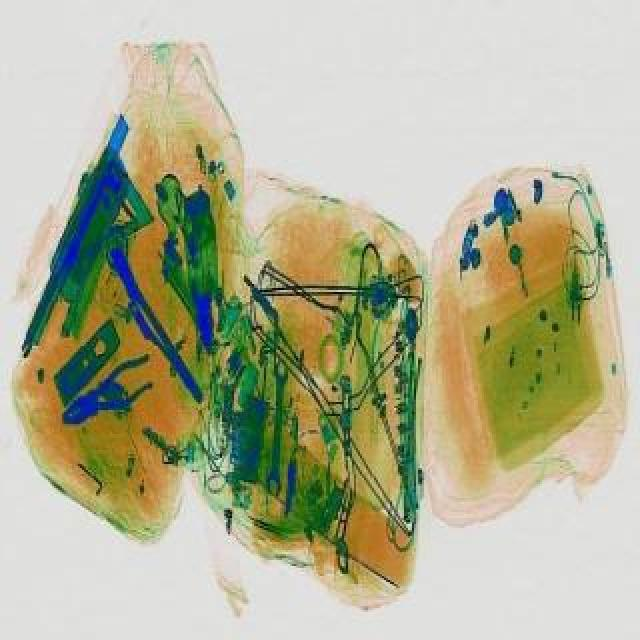scissors: (264, 358, 288, 496)
wrench: (48, 346, 166, 436)
